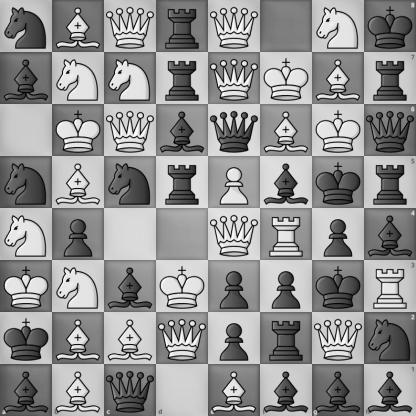B: (52, 364, 104, 416), (209, 364, 260, 416), (53, 1, 104, 52), (53, 157, 104, 208), (53, 313, 104, 364), (105, 313, 156, 364), (261, 105, 312, 156), (313, 53, 364, 104)
K: (1, 261, 52, 312), (53, 105, 104, 156), (157, 261, 208, 312), (261, 53, 312, 104), (313, 105, 364, 156)
N: (1, 209, 52, 260), (53, 53, 104, 104), (53, 261, 104, 312), (105, 53, 156, 104), (313, 1, 364, 52)
P: (209, 157, 260, 208)
Q: (105, 1, 156, 52), (105, 105, 156, 156), (157, 313, 208, 364), (209, 1, 260, 52), (209, 53, 260, 104), (209, 209, 260, 260), (313, 313, 364, 364)
R: (364, 260, 416, 312), (261, 209, 312, 260)
b: (0, 364, 52, 416), (260, 364, 312, 416), (312, 364, 364, 416), (364, 364, 416, 416), (364, 209, 416, 260), (1, 53, 52, 104), (105, 261, 156, 312), (157, 105, 208, 156), (261, 157, 312, 208)
board: (0, 0, 415, 415)
k: (364, 0, 416, 52), (1, 313, 52, 364), (313, 157, 364, 208), (313, 261, 364, 312)
n: (364, 312, 416, 364), (1, 1, 52, 52), (1, 157, 52, 208), (105, 157, 156, 208)
p: (53, 209, 104, 260), (209, 261, 260, 312), (209, 313, 260, 364), (261, 261, 312, 312), (313, 209, 364, 260)
q: (104, 364, 156, 416), (364, 104, 416, 156), (209, 105, 260, 156)
r: (364, 156, 416, 209), (364, 52, 416, 104), (157, 1, 208, 52), (157, 53, 208, 104), (157, 157, 208, 208), (261, 313, 312, 364)
